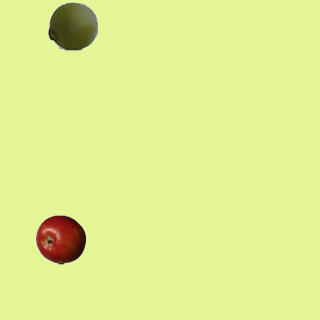Apple Braeburn: (35, 214, 85, 264)
Grape White 4: (47, 0, 97, 50)
